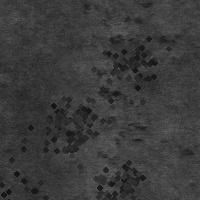rolled-in_scale: (29, 70, 123, 164), (96, 32, 149, 164), (22, 89, 100, 167), (90, 22, 166, 98), (0, 129, 60, 200), (88, 147, 154, 200)
